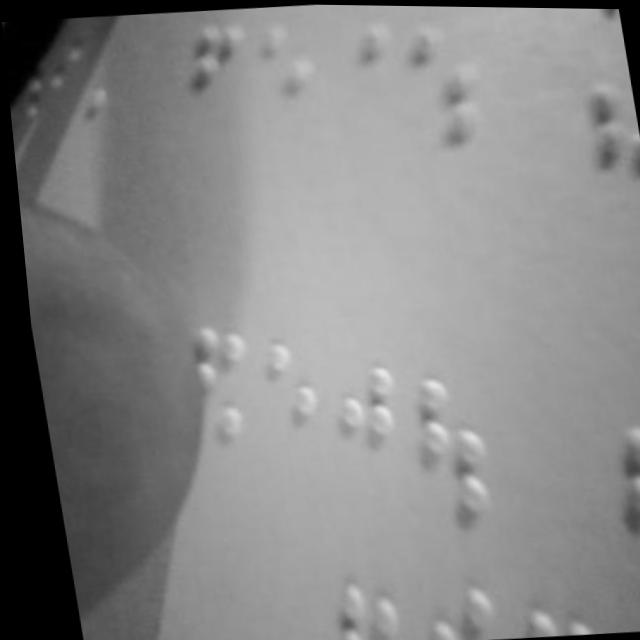braiile: (396, 368, 493, 520), (398, 11, 487, 150), (243, 333, 330, 474), (317, 354, 403, 492), (245, 12, 327, 137), (182, 11, 261, 136), (327, 12, 404, 130), (596, 414, 640, 582), (401, 565, 490, 640)
